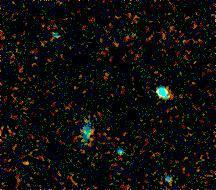star: (9, 152, 39, 182)
